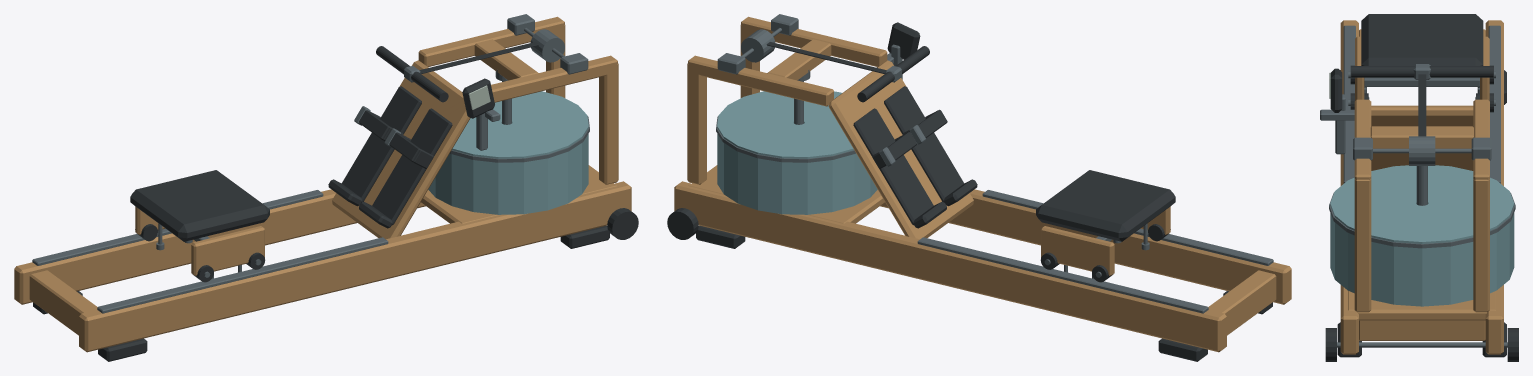
3 views of the same model, side by side, from view 1: azimuth 30°, elevation 25°; view 2: azimuth 150°, elevation 25°; view 3: azimuth 270°, elevation 25° (orthographic). The views are drawn at different scales.
Visible parts, largest first — view 1: Frame rail L, Frame rail R, Tank hollow wall, Seat cushion, Tank opaque lid with shaft clearance, Inclined complete footboard, Foot pad L, Foot pad R, Guide track L, Seat side cheek -0.19, Front upright -0.18, Frame cross member -1 (+15 smaller); view 2: Frame rail R, Frame rail L, Tank hollow wall, Tank opaque lid with shaft clearance, Seat cushion, Inclined complete footboard, Foot pad R, Foot pad L, Upper drive bearer 0.18, Guide track R, Seat side cheek 0.19, Front upright 0.18 (+13 smaller); view 3: Tank opaque lid with shaft clearance, Tank hollow wall, Seat cushion, Inclined complete footboard, Frame cross member 0.96, Front upright -0.18, Front upright 0.18, Tank support deck, Upper cross bearing, Frame rail R, Guide track R, Frame rail L (+24 smaller).
Part boxes in pixels (box(x1,y1,x2,y2)): Frame rail L: box(79, 181, 631, 352); Frame rail R: box(14, 189, 425, 304); Tank hollow wall: box(429, 134, 588, 212); Seat cushion: box(130, 170, 269, 241); Tank opaque lid with shaft clearance: box(452, 91, 588, 158); Inclined complete footboard: box(332, 60, 470, 239); Foot pad L: box(372, 108, 452, 225); Foot pad R: box(341, 86, 421, 202); Guide track L: box(97, 237, 388, 313); Seat side cheek -0.19: box(191, 226, 264, 275); Front upright -0.18: box(599, 63, 618, 184); Frame cross member -1: box(29, 270, 97, 335); Frame rail R: box(674, 181, 1226, 352); Frame rail L: box(880, 189, 1291, 304); Tank hollow wall: box(717, 134, 876, 212); Tank opaque lid with shaft clearance: box(717, 91, 853, 158); Seat cushion: box(1036, 170, 1175, 241); Inclined complete footboard: box(828, 60, 973, 239); Foot pad R: box(853, 108, 933, 225); Foot pad L: box(884, 86, 964, 202); Upper drive bearer 0.18: box(688, 55, 833, 106); Guide track R: box(917, 237, 1208, 313); Seat side cheek 0.19: box(1041, 226, 1114, 275); Front upright 0.18: box(687, 63, 706, 184); Tank opaque lid with shaft clearance: box(1330, 165, 1514, 243); Tank hollow wall: box(1330, 213, 1514, 304); Seat cushion: box(1361, 14, 1483, 65); Inclined complete footboard: box(1371, 105, 1473, 170); Frame cross member 0.96: box(1359, 320, 1485, 340); Front upright -0.18: box(1354, 179, 1371, 312); Front upright 0.18: box(1473, 179, 1489, 312); Tank support deck: box(1348, 291, 1495, 320); Upper cross bearing: box(1370, 126, 1473, 148); Frame rail R: box(1485, 20, 1503, 354); Guide track R: box(1488, 25, 1500, 183); Frame rail L: box(1340, 20, 1358, 354).
Size of the model in its own units: 2.14 by 0.7201 by 0.603.
